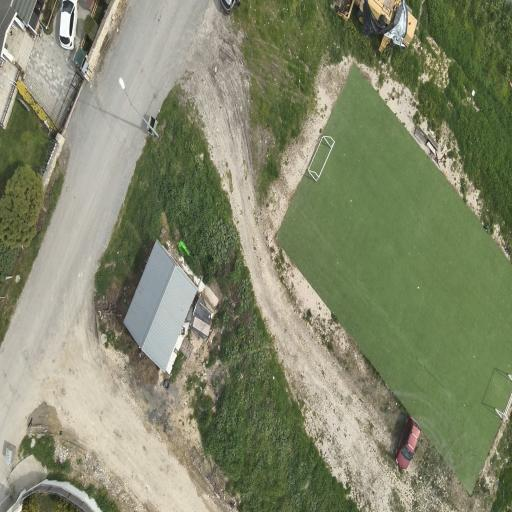car: (395, 417, 419, 469), (58, 0, 76, 49), (220, 0, 239, 13)
harvester: (334, 0, 416, 52)
